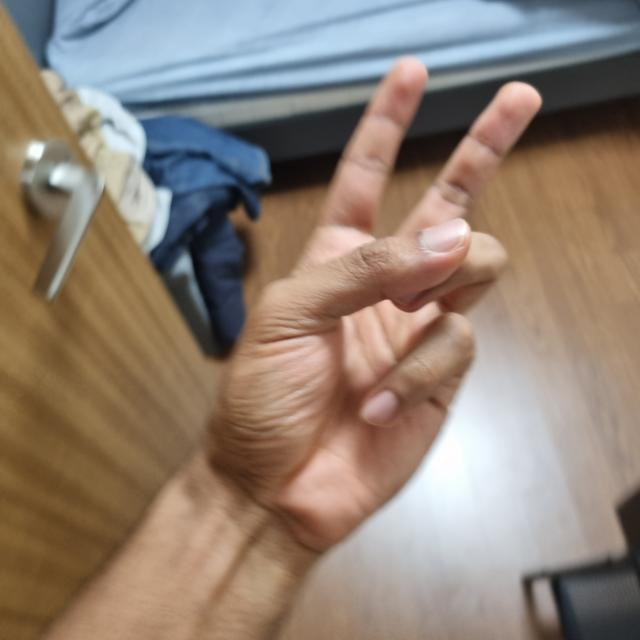Scissors: (214, 63, 536, 543)
